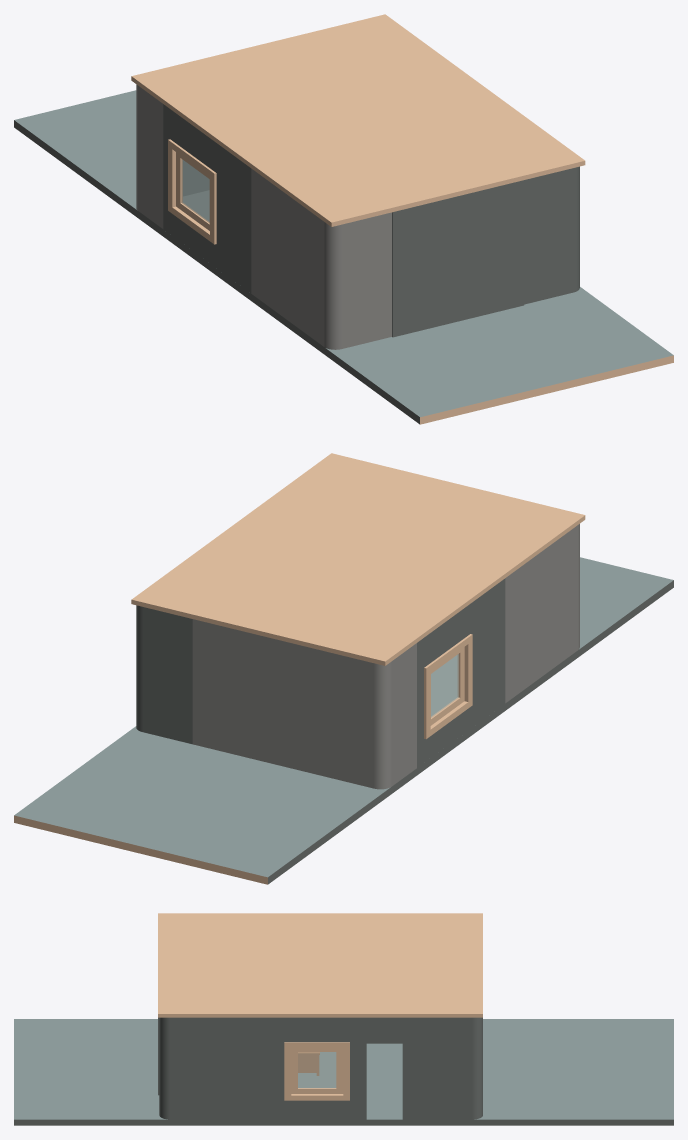
File: untitledGOO222.glb
The picture shows the model from 3 angles, top to bottom: view 1: azimuth 30°, elevation 25°; view 2: azimuth 150°, elevation 25°; view 3: azimuth 270°, elevation 25°; orthographic projection. The views are drawn at different scales.
Parts seen in each view (by area): view 1: floorFull(Clone), Floor.002, wallCornerRond(Clone), wall(Clone).001, wallWindow(Clone).001, wallCornerRond(Clone).005, wallCornerRond(Clone).002, window.001; view 2: floorFull(Clone), Floor.002, wallCornerRond(Clone).002, wallCornerRond(Clone), wallWindow(Clone).001, wallCornerRond(Clone).007, window.001; view 3: Floor.002, floorFull(Clone), wallWindow(Clone), wallCornerRond(Clone).005, wallCornerRond(Clone).007, window, wall(Clone).004, desk.
Part boxes in pixels (box(x1,y1,x2,y2)): floorFull(Clone): box(131, 14, 585, 226); Floor.002: box(14, 90, 673, 424); wallCornerRond(Clone): box(251, 168, 391, 349); wall(Clone).001: box(392, 180, 524, 337); wallWindow(Clone).001: box(163, 104, 251, 293); wallCornerRond(Clone).005: box(524, 166, 579, 304); wallCornerRond(Clone).002: box(136, 84, 209, 228); window.001: box(176, 152, 209, 230); floorFull(Clone): box(131, 453, 585, 665); Floor.002: box(14, 557, 673, 884); wallCornerRond(Clone).002: box(192, 619, 416, 789); wallCornerRond(Clone): box(505, 524, 579, 703); wallWindow(Clone).001: box(417, 578, 505, 767); wallCornerRond(Clone).007: box(136, 605, 192, 744); window.001: box(430, 647, 464, 725); Floor.002: box(14, 1019, 673, 1125); floorFull(Clone): box(158, 913, 482, 1017); wallWindow(Clone): box(249, 1017, 366, 1119); wallCornerRond(Clone).005: box(159, 1017, 249, 1119); wallCornerRond(Clone).007: box(402, 1017, 482, 1119); window: box(291, 1048, 343, 1093); wall(Clone).004: box(366, 1017, 402, 1043); desk: box(298, 1052, 319, 1075).
Bounding box in the file's own units: 11.6 × 5.89 × 31.6.
